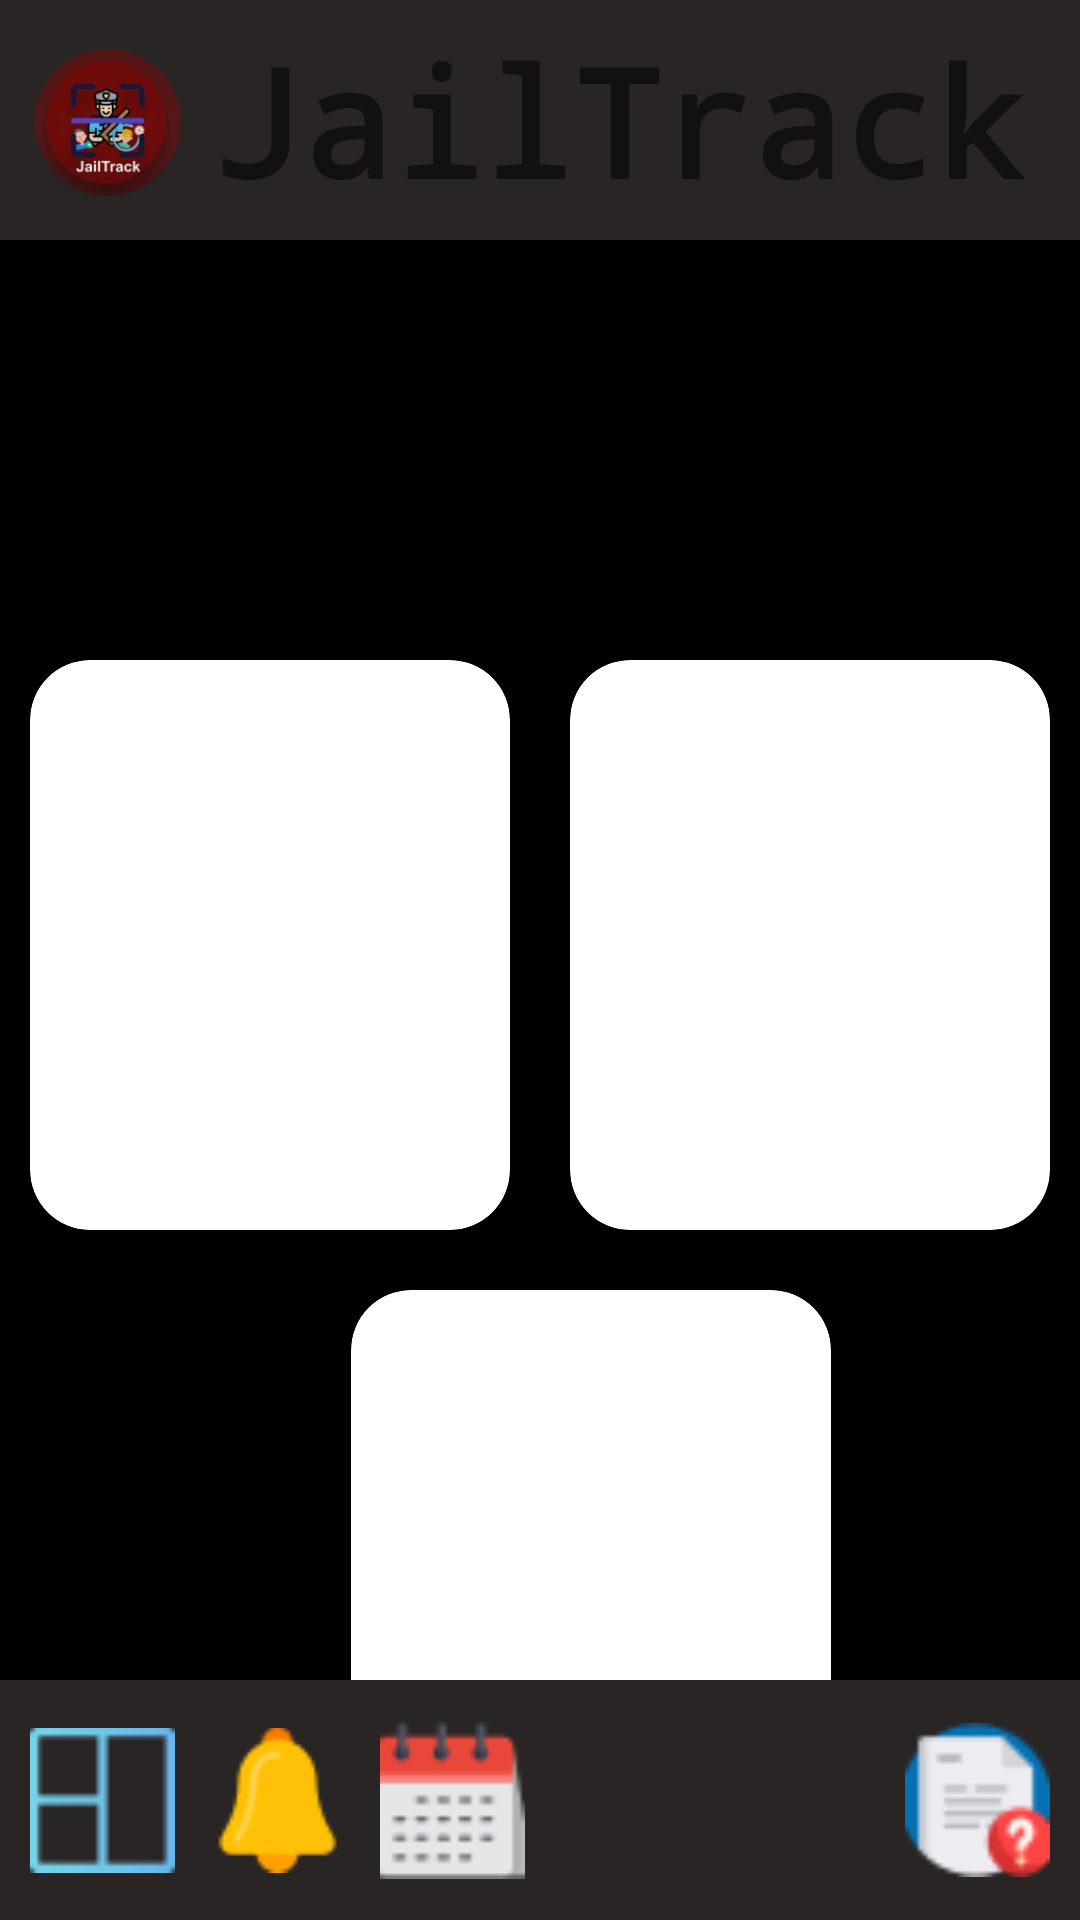

Where icons sit on this 1080x1920 app screen, as (x1, y1, x2, y2):
navigation homepage: (30, 1728, 175, 1873)
navigation notification: (218, 1728, 337, 1873)
navigation notification request: (905, 1723, 1050, 1877)
navigation schedule: (380, 1724, 525, 1879)
